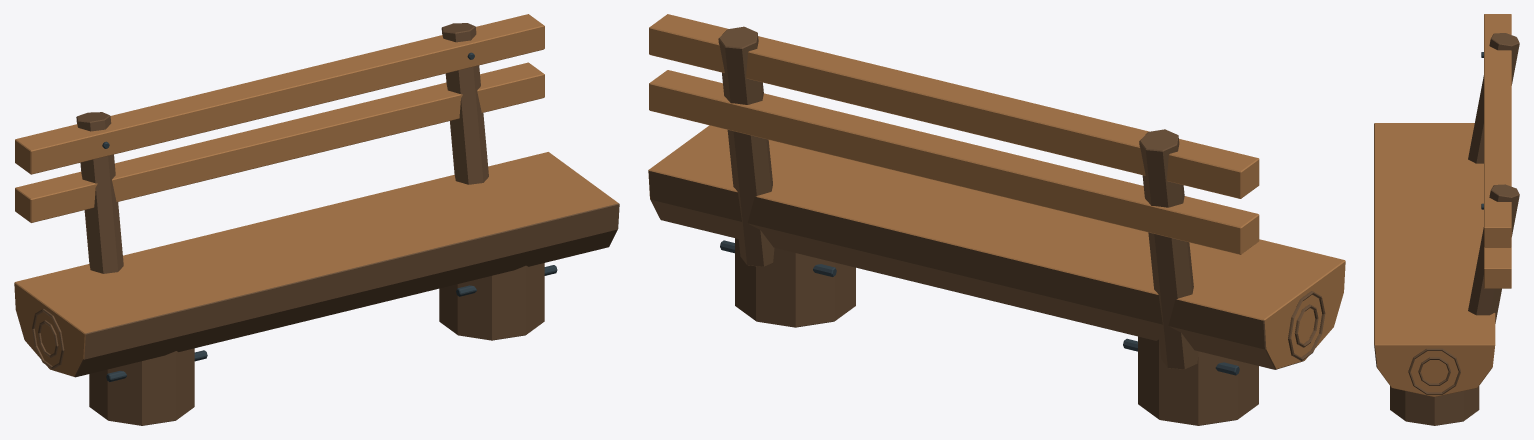
Rendered from b01_rustic_split_log_bench.glb.
3 views of the same model, side by side, from view 1: azimuth 30°, elevation 25°; view 2: azimuth 150°, elevation 25°; view 3: azimuth 270°, elevation 25° (orthographic). The views are drawn at different scales.
Parts seen in each view (by area): view 1: b01_rustic_split_log_bench; view 2: b01_rustic_split_log_bench; view 3: b01_rustic_split_log_bench.
Boxes of the visible parts, left/top/right/bottom form: b01_rustic_split_log_bench: left=14, top=14, right=619, bottom=425; b01_rustic_split_log_bench: left=648, top=14, right=1345, bottom=425; b01_rustic_split_log_bench: left=1374, top=14, right=1519, bottom=425.
Bounding box in the file's own units: 2.1 × 0.9693 × 0.5769.
